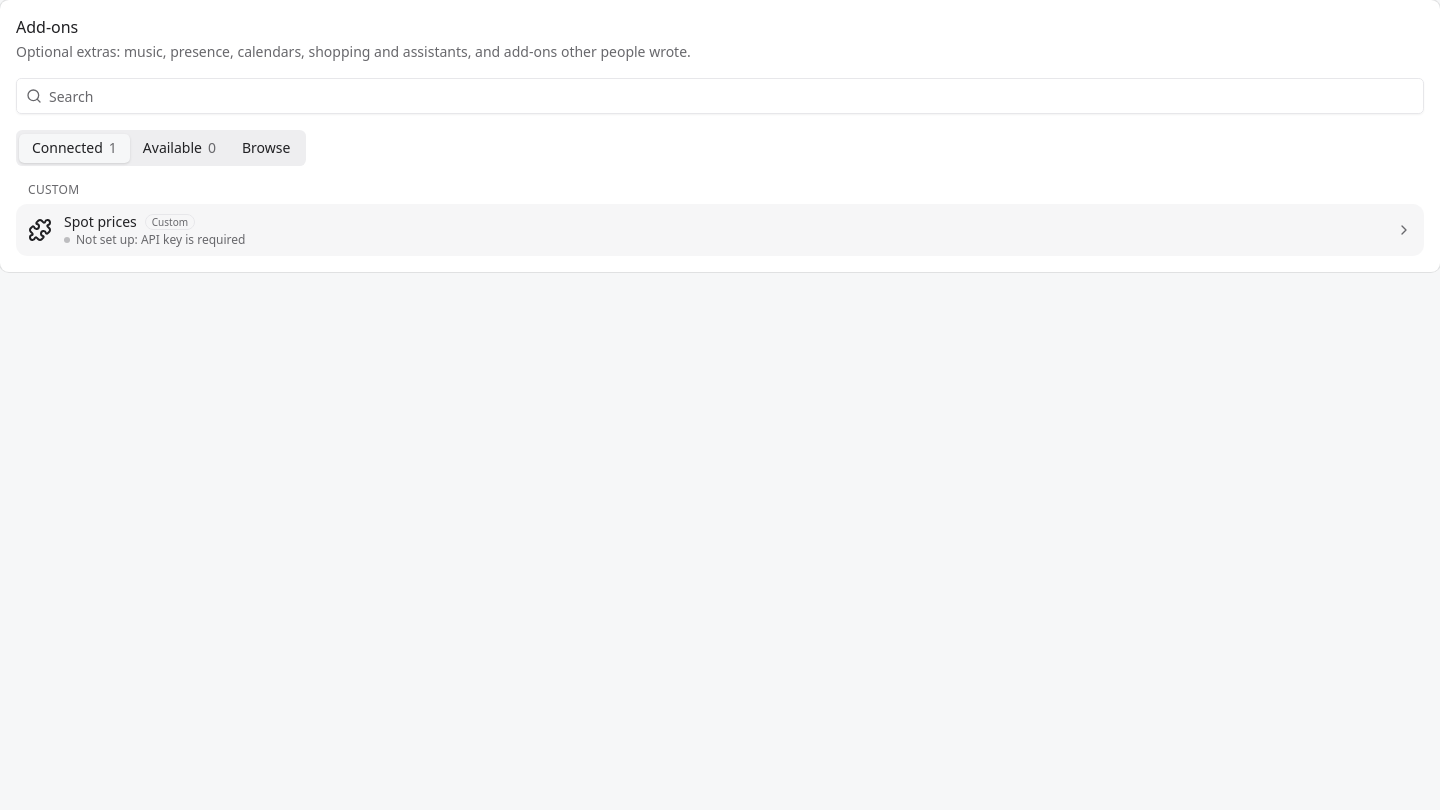
Test case: the generated setup panel › draws a field for each type, with required marks, help and defaults
Click the button with aria-label "Configure Spot prices": (100, 222) [16,204,1424,256]
(page scrolled)
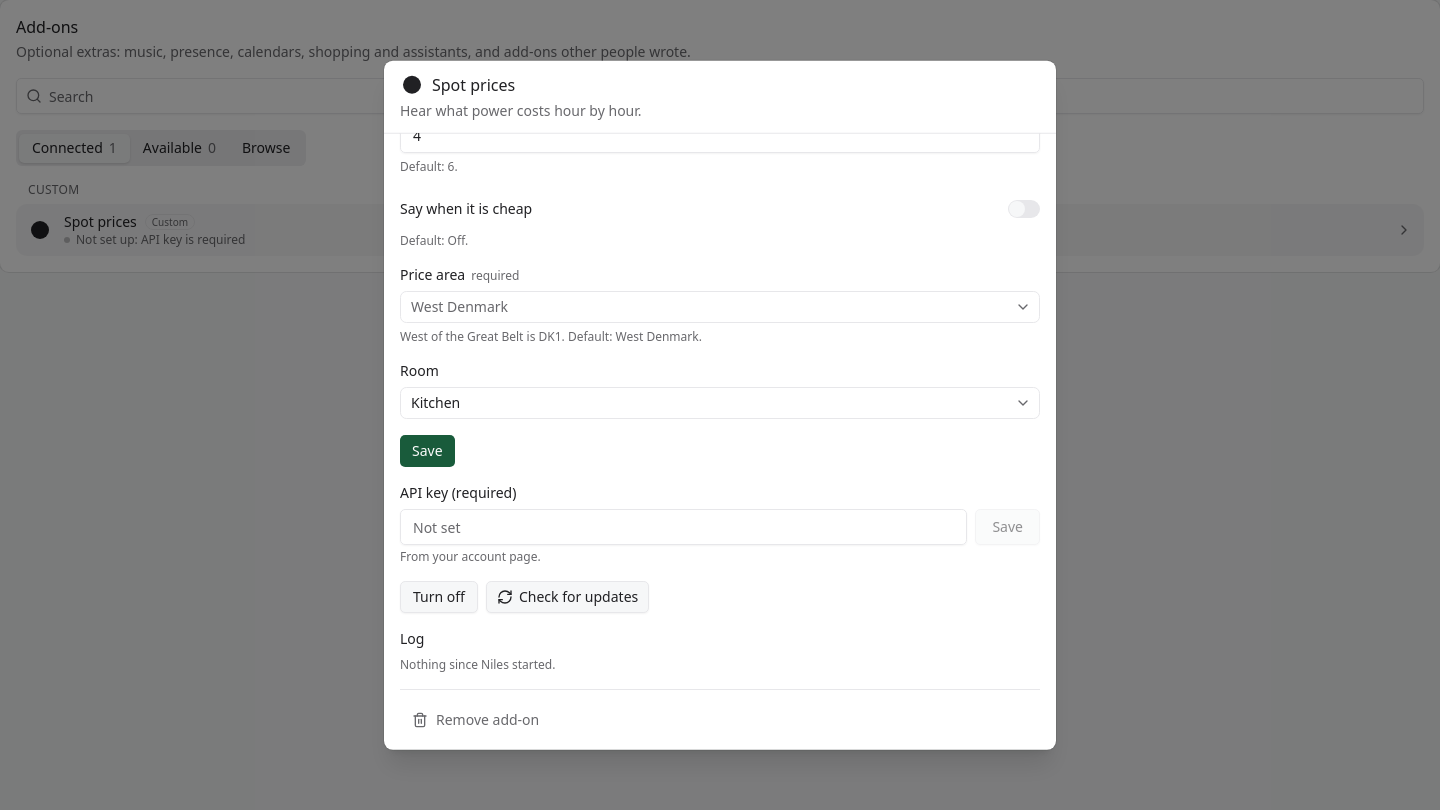
Check: the dropdown named "Price area" is shown, box [400,291,1040,323]
Check: the text "West of the Great Belt is DK1. Default: West Denmark." is shown, box [400,328,702,345]
Check: the dropdown named "Room" shows "Kitchen", box [400,387,1040,419]
